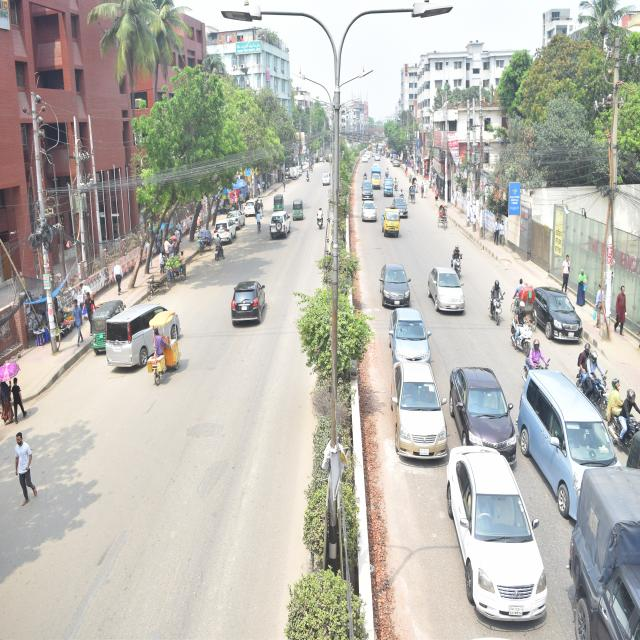car: (436, 433, 555, 625), (385, 348, 461, 493), (444, 353, 522, 470), (526, 273, 587, 355), (221, 264, 277, 339), (386, 305, 438, 370), (428, 262, 472, 324), (372, 255, 414, 316), (354, 197, 378, 235), (268, 209, 294, 244), (212, 213, 243, 240), (225, 200, 247, 232), (238, 193, 263, 217), (357, 174, 376, 205), (392, 200, 410, 221)
microbus: (516, 364, 620, 520), (98, 305, 188, 373), (320, 170, 334, 193)
motorbike: (575, 340, 611, 417), (608, 370, 640, 451), (529, 337, 553, 395), (506, 307, 530, 361), (490, 278, 510, 328), (449, 241, 466, 284), (312, 206, 330, 238), (299, 160, 317, 188), (388, 168, 401, 195)
pickup-van: (378, 210, 406, 250), (364, 162, 386, 193), (381, 173, 399, 196)
